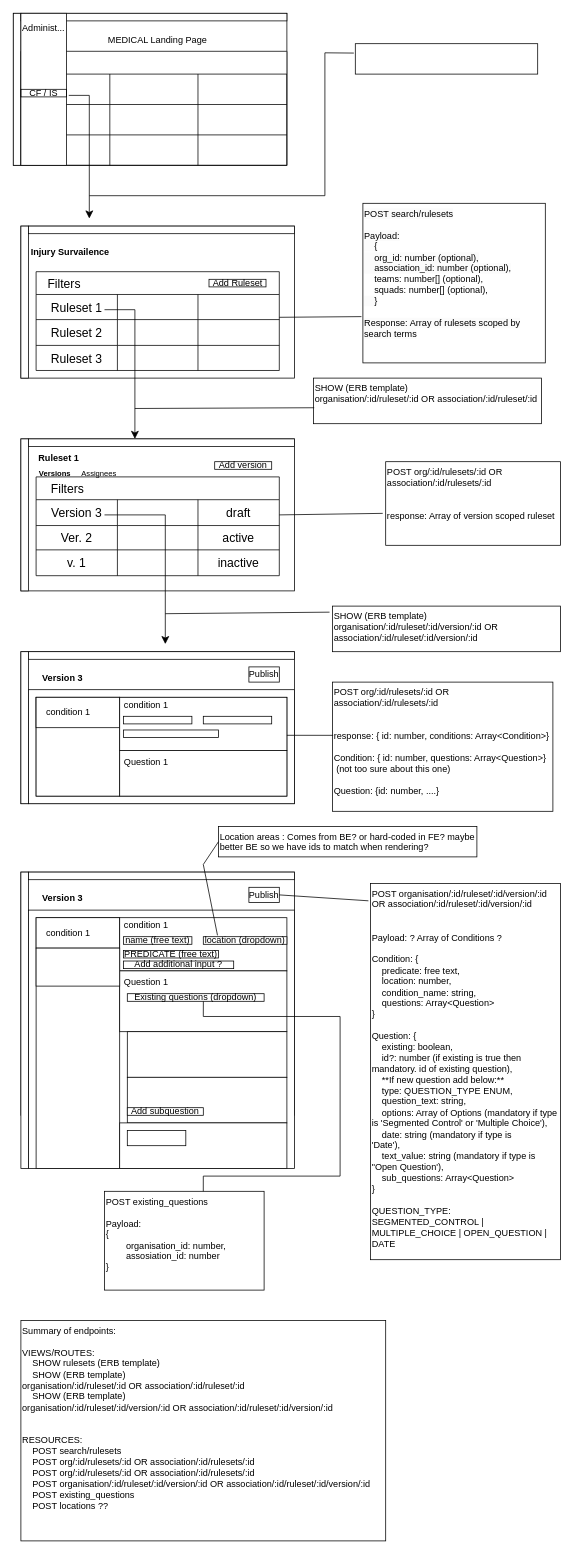
The diagram is 574 pixels wide and 1554 high, and some of its shapes have lost their labels. Here are the shapes that lost their labels. From the top down, the centre of each, then its label:
At (x=446, y=58): "SHOW rulesets (ERB template)".
At (x=77, y=966): "condition 2".
At (x=156, y=1138): "Add Question".
